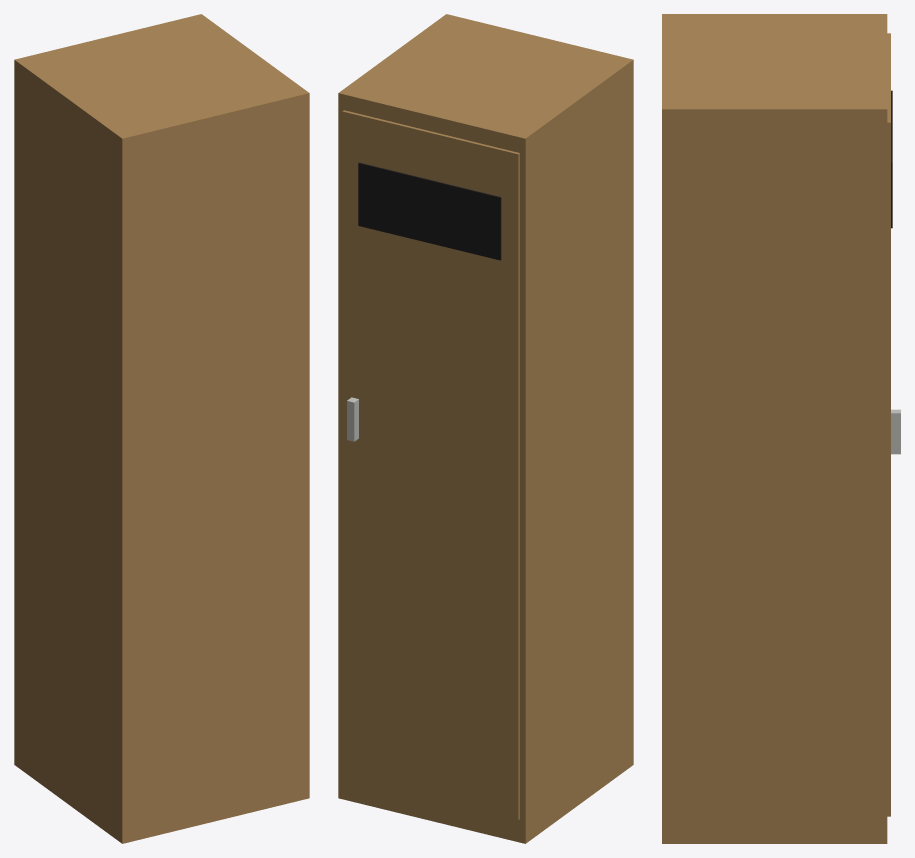
File: parametric-locker-2nd-pub.glb
The picture shows the model from 3 angles, left to right: view 1: azimuth 30°, elevation 25°; view 2: azimuth 150°, elevation 25°; view 3: azimuth 270°, elevation 25°; orthographic projection. The views are drawn at different scales.
Visible parts, largest first — view 1: parametric-locker-2nd-pub; view 2: parametric-locker-2nd-pub; view 3: parametric-locker-2nd-pub.
Boxes of the visible parts, x1,y1,x2,y2 form: parametric-locker-2nd-pub: (14,14,309,843); parametric-locker-2nd-pub: (338,14,633,843); parametric-locker-2nd-pub: (662,14,900,843).
Bounding box in the file's own units: 0.5 × 1.8 × 0.53.
